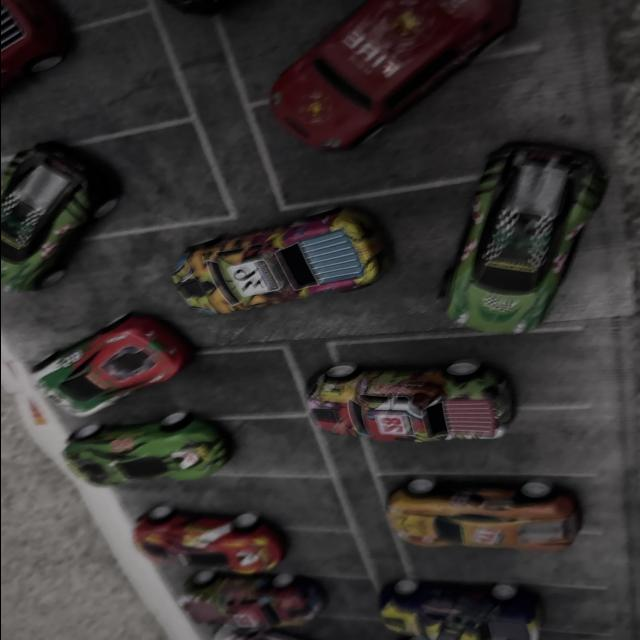car: (260, 1, 526, 159), (146, 177, 372, 313), (291, 334, 525, 444), (480, 190, 600, 357), (372, 444, 585, 526), (337, 577, 567, 640), (48, 413, 246, 481), (0, 180, 118, 290), (138, 566, 320, 628), (123, 506, 304, 568), (20, 340, 220, 394), (0, 0, 94, 84), (177, 620, 389, 640)
